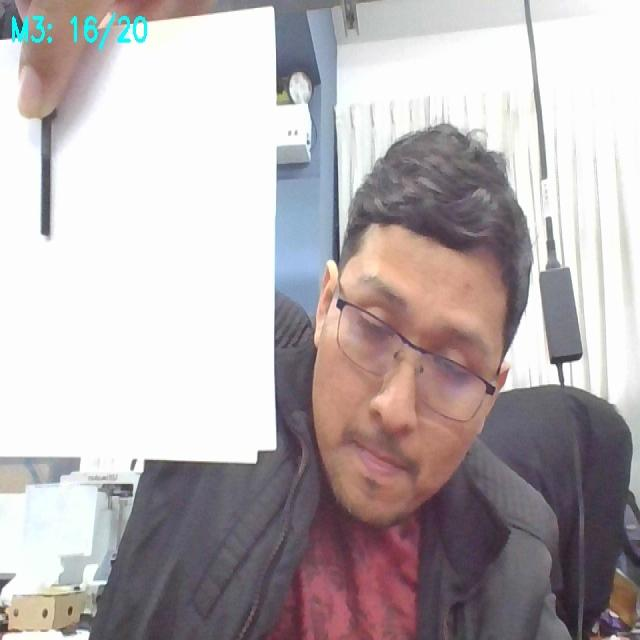vastago: (40, 116, 51, 237)
